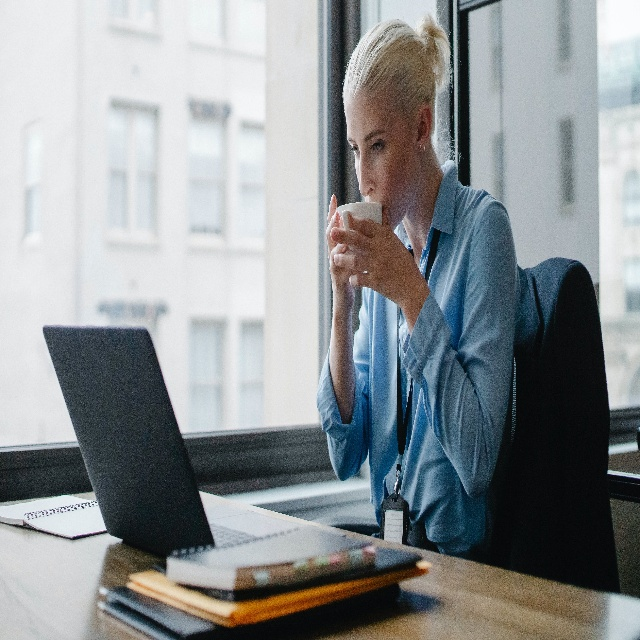Sin_guantes: (330, 207, 409, 303), (326, 194, 358, 305)
